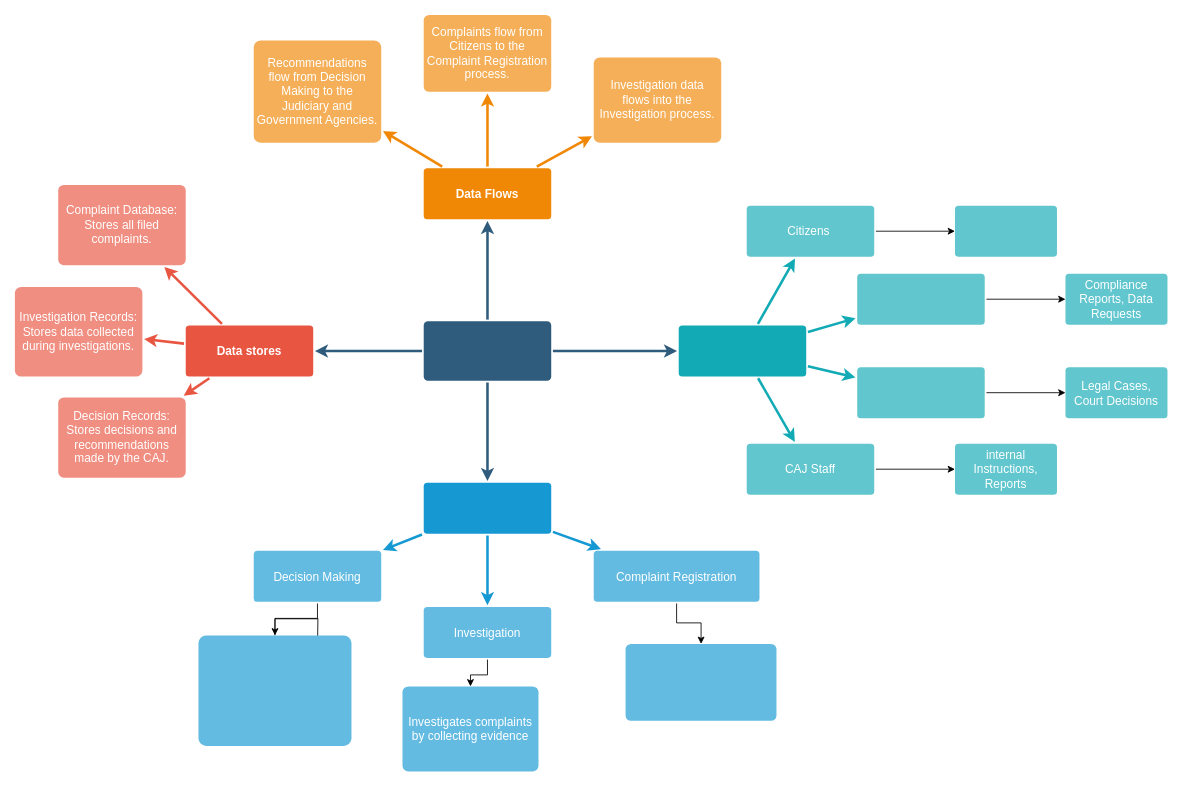
The diagram is 1182 pixels wide and 785 high, and some of its shapes have lost their labels. The centre of each missing label's shape, as x and y in pixels:
Based on investigations, recommends actions or forwards cases to the judiciary.: point 274,690
Commission on administrative justice: point 487,350
Complaints, Inquiries.: point 1006,230
External Entities: point 742,350
Government Agencies: point 920,298
Judiciary: point 920,392
Processes: point 487,507
Receives complaints and logs them into the system.: point 700,681
